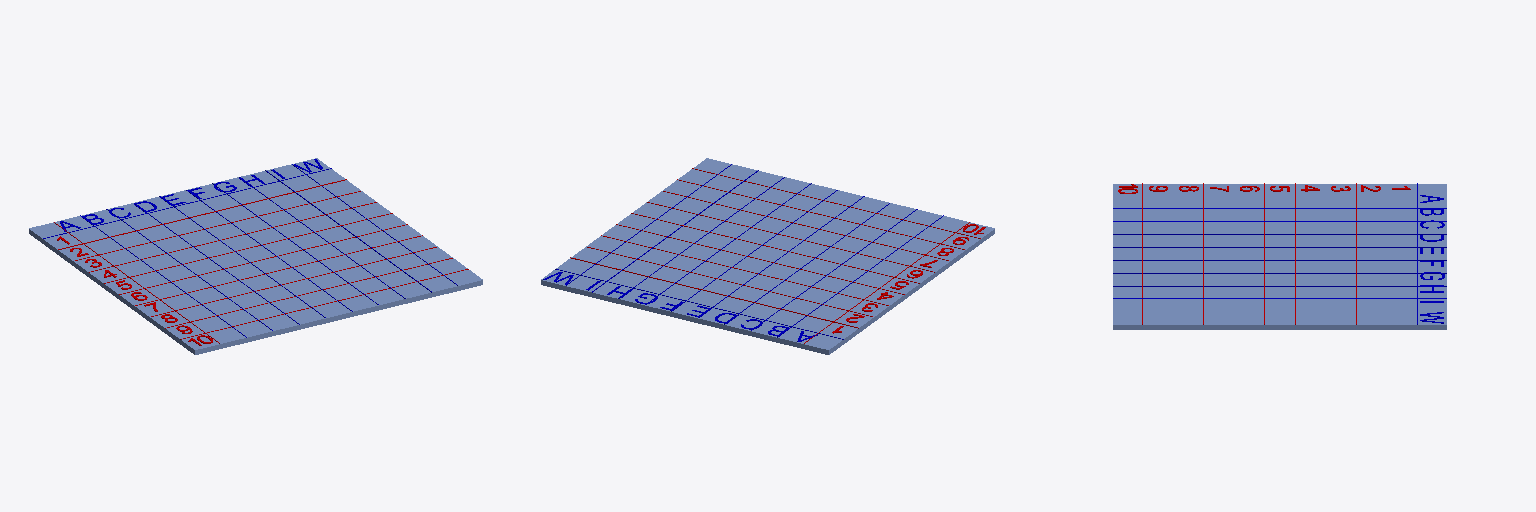
The model's file is Baord.obj.
3 renders of one model, left to right at view 1: azimuth 30°, elevation 25°; view 2: azimuth 150°, elevation 25°; view 3: azimuth 270°, elevation 25°, orthographic.
Parts seen in each view (by area): view 1: BASE, BASE.001, BASE.002; view 2: BASE, BASE.001, BASE.002; view 3: BASE, BASE.002, BASE.001.
Part boxes in pixels (left/top/right/bottom): BASE: left=29, top=158, right=482, bottom=354; BASE.001: left=54, top=179, right=468, bottom=345; BASE.002: left=43, top=159, right=457, bottom=337; BASE: left=541, top=158, right=994, bottom=354; BASE.001: left=570, top=168, right=985, bottom=343; BASE.002: left=543, top=164, right=943, bottom=341; BASE: left=1113, top=184, right=1446, bottom=329; BASE.002: left=1113, top=183, right=1446, bottom=324; BASE.001: left=1118, top=183, right=1410, bottom=324.
Size of the model in its own units: 60 by 1.28 by 60.